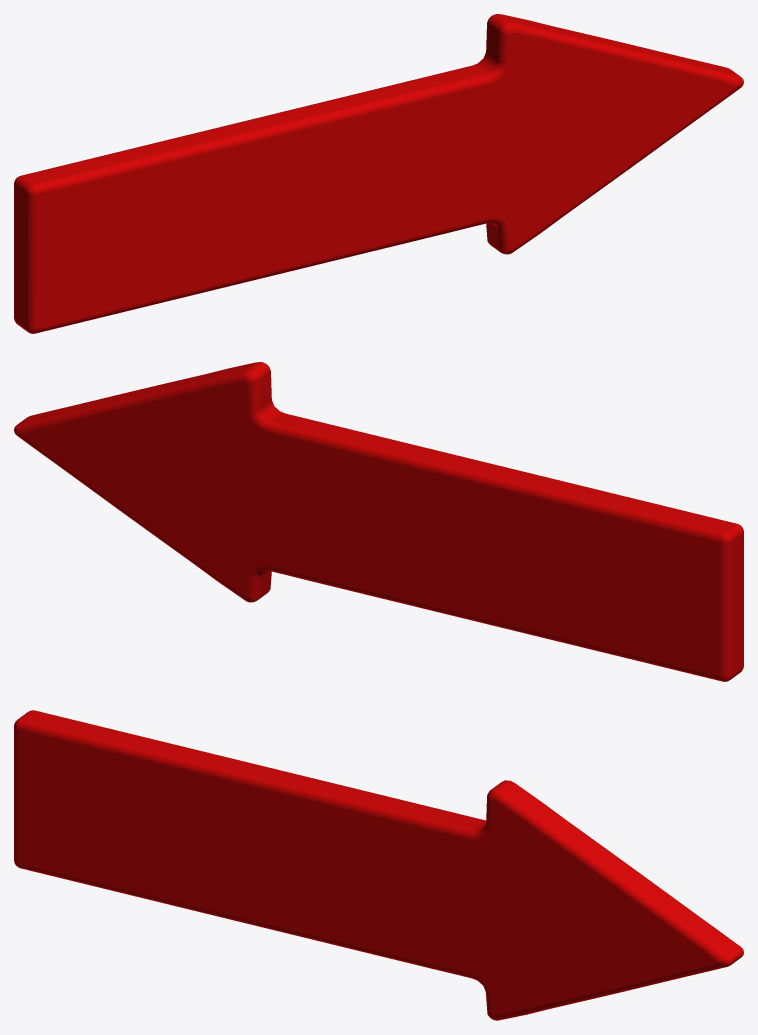
File: red-arrow.glb
3 views of the same model, one above another, from view 1: azimuth 30°, elevation 25°; view 2: azimuth 150°, elevation 25°; view 3: azimuth 330°, elevation 25° (orthographic).
Parts seen in each view (by area): view 1: straight_thick.1; view 2: straight_thick.1; view 3: straight_thick.1.
Boxes of the visible parts, x1,y1,x2,y2 form: straight_thick.1: (14, 14, 743, 333); straight_thick.1: (14, 362, 743, 681); straight_thick.1: (14, 710, 743, 1020).
Size of the model in its own units: 0.4746 by 0.1462 by 0.0219.
Materials: 1 (1 with a texture image).
